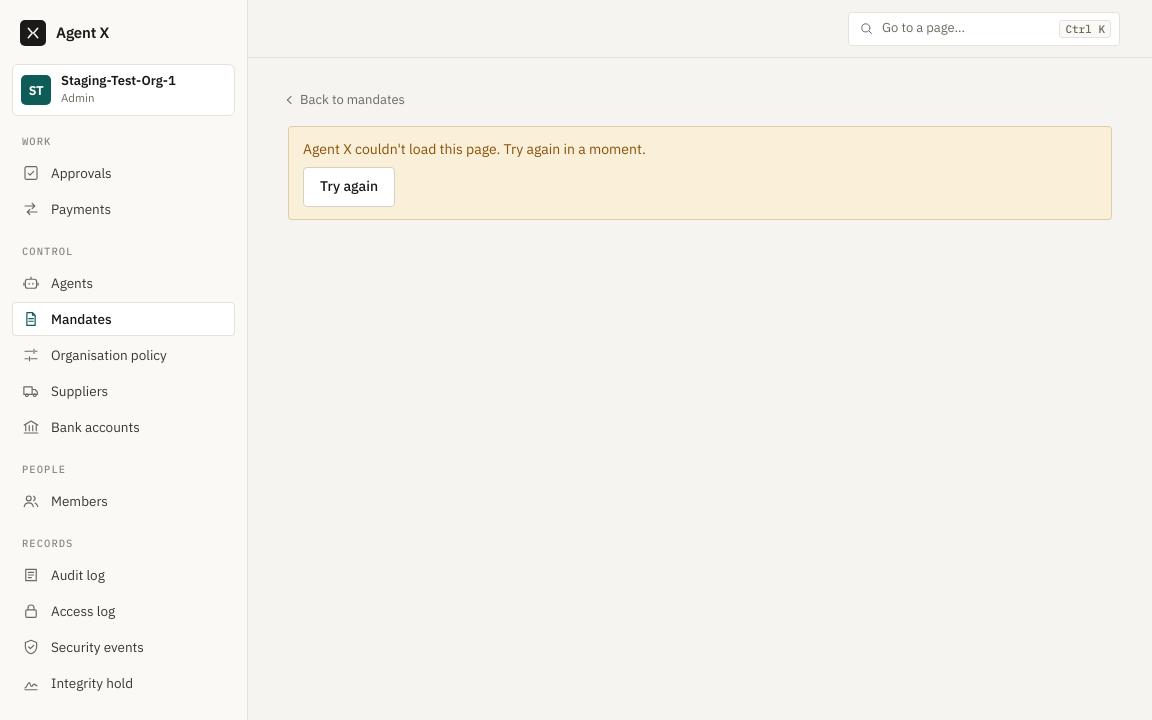
Scenario: a mandate’s page › offers to read again a mandate that couldn’t be read
What coordinates should you click on to do the following:
click the button "Try again"
I would click on:
 (349, 187)
Its box is [303,167,395,207].
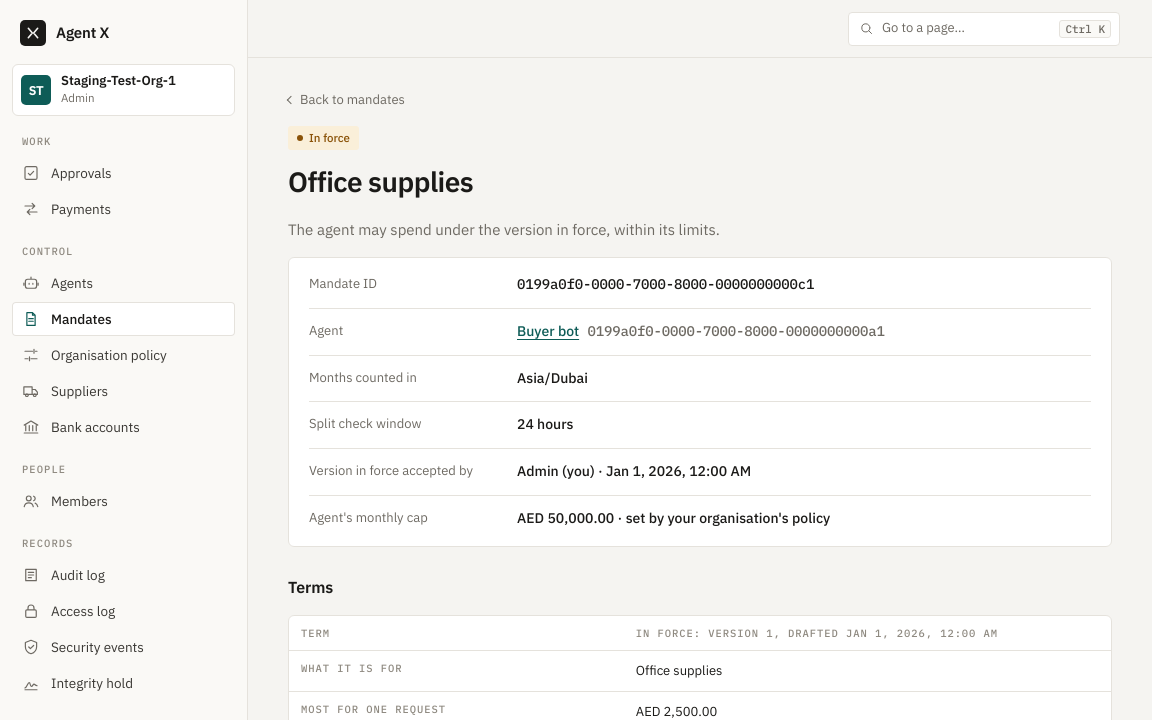
Expected: the heading "Office supplies" is shown, [288,163,473,200]
